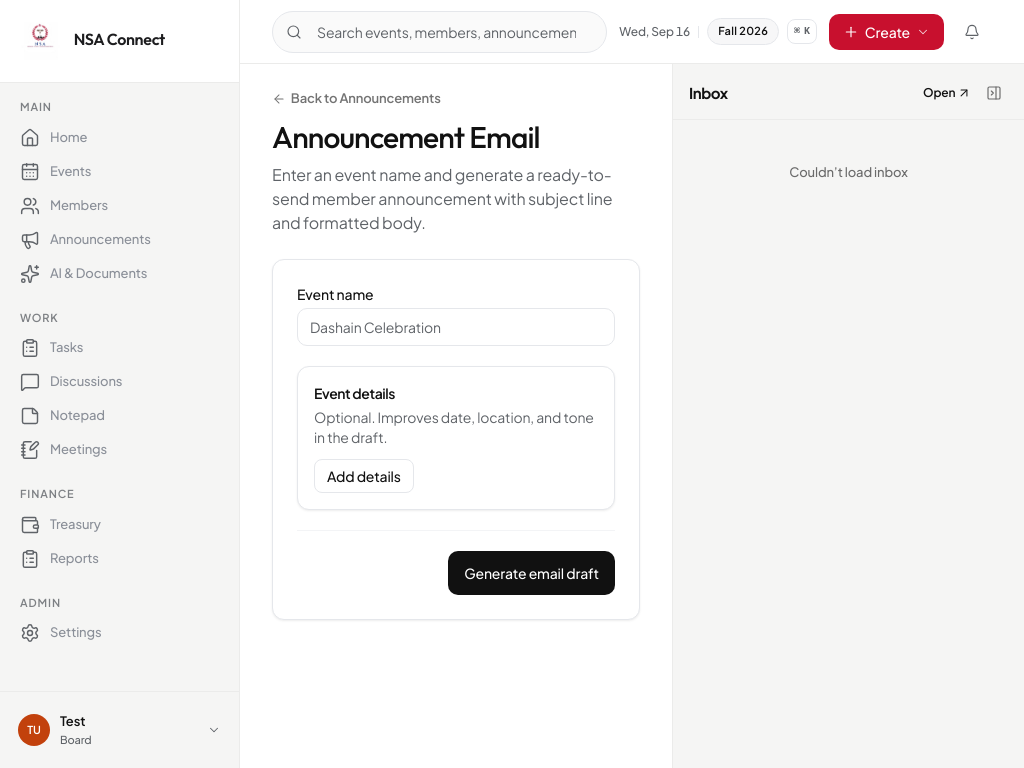
Test case: AnnouncementEmailPage › requires an event name before generating a draft
Click the button "Generate email draft" at (532, 573), box [448,551,615,595]
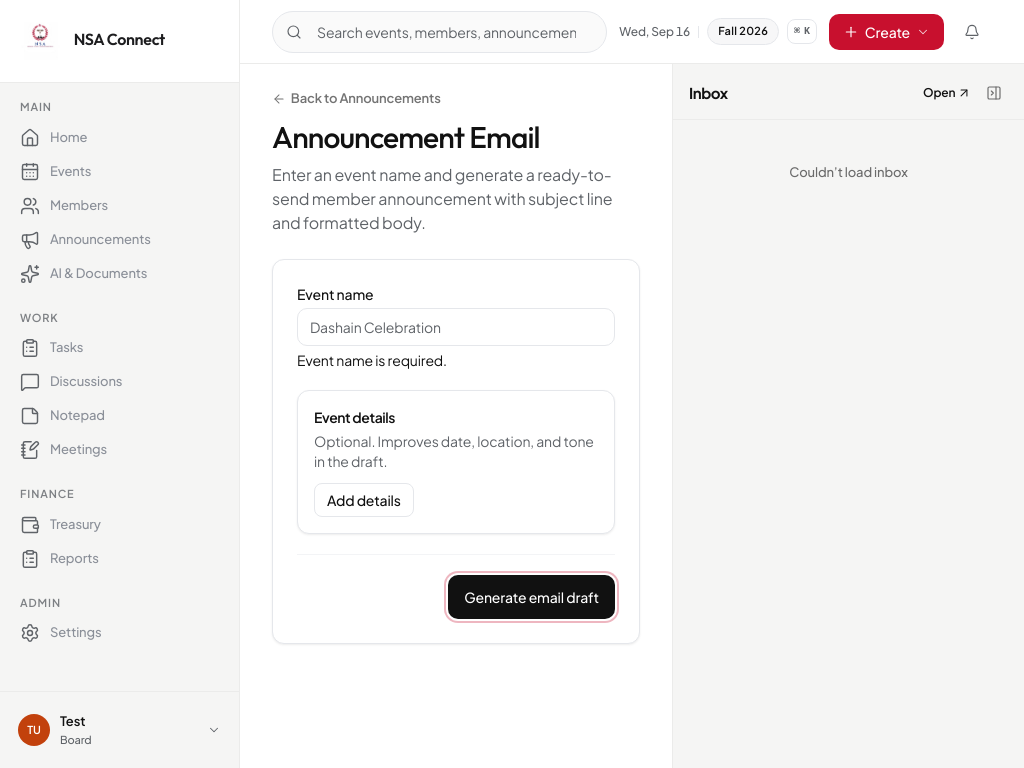
Expected: the text "Event name is required." is shown, [297,351,447,369]
